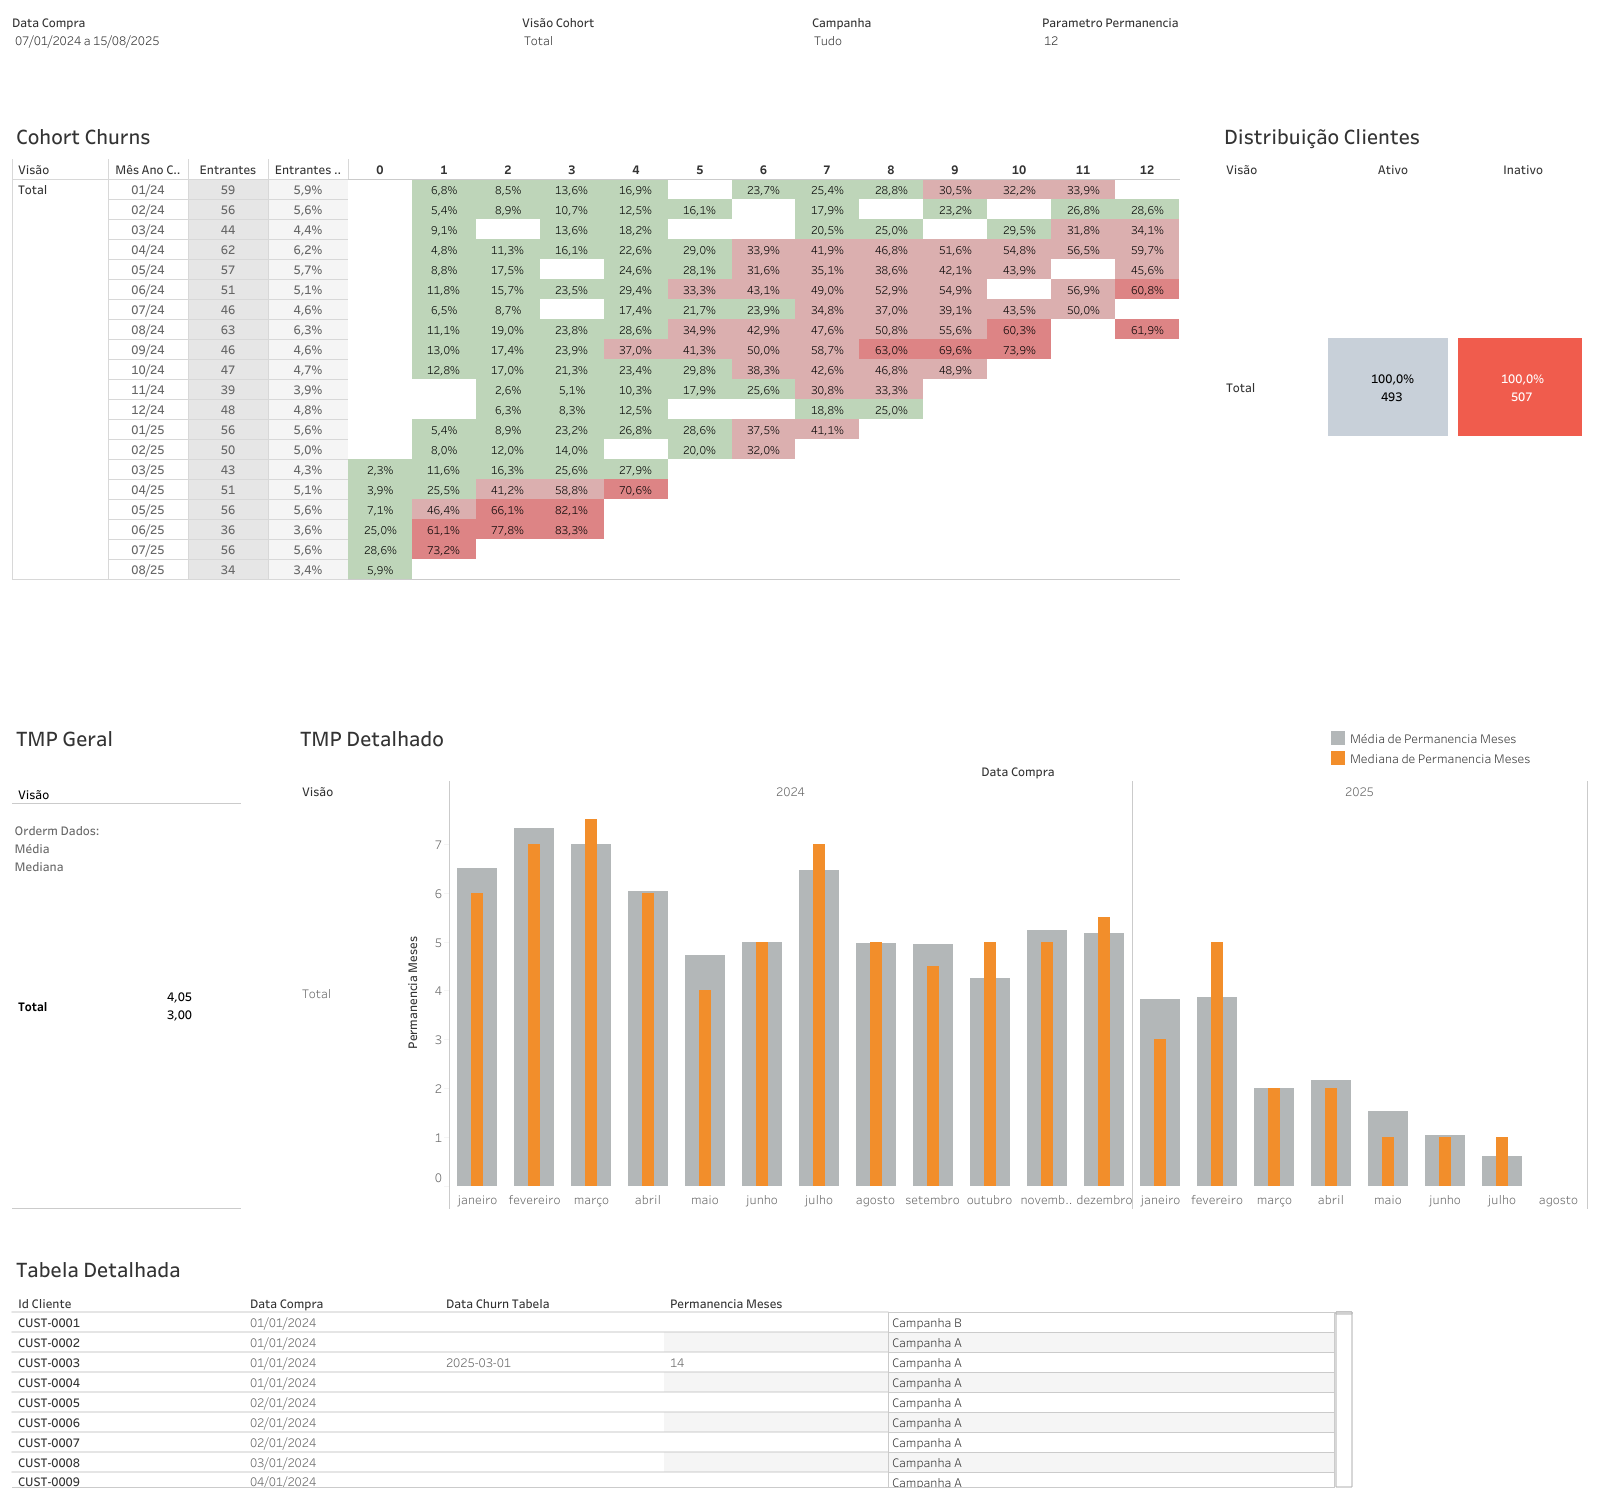

The dashboard page shown, as its layout file describes it:
{"tool":"tableau","page":{"name":"Painel","canvas":[1600,1500],"ordinal":0},"visuals":[{"type":"filter","title":"Cohort Churns","param":"[federated.1jg5xo313vnkno10xeusn05cs98l].[none:data_compra:qk]","box":[8,8,445,71.7]},{"type":"blank","box":[453,8,65,71.7]},{"type":"parameter","param":"[Parameters].[Parâmetro 1]","box":[518,8,202,71.7]},{"type":"blank","box":[720,8,88,71.7]},{"type":"filter","title":"Cohort Churns","param":"[federated.1jg5xo313vnkno10xeusn05cs98l].[none:campanha:nk]","box":[808,8,168,71.7]},{"type":"blank","box":[976,8,62,71.7]},{"type":"parameter","param":"[Parameters].[Parâmetro 2]","box":[1038,8,516,71.7]},{"type":"blank","box":[1554,8,38,71.7]},{"type":"blank","box":[8,79.7,1584,32.3]},{"type":"worksheet","title":"Cohort Churns","mark":"Square","rows":["Calculation_1052716462848020481","mês_ano_compra","Calculation_558164928986787842","Calculation_558164928999727113"],"cols":["Calculation_602919450343936000"],"box":[8,112,1176,554.3]},{"type":"blank","box":[1184,112,32,554.3]},{"type":"worksheet","title":"Distribuição Clientes","mark":"Bar","rows":["Calculation_1052716462848020481"],"cols":["ativo"],"box":[1216,112,376,487.2]},{"type":"blank","box":[1216,599.2,376,67.1]},{"type":"blank","box":[8,666.3,1584,47.7]},{"type":"worksheet","title":"TMP Geral","mark":"Automatic","rows":["Calculation_1052716462848020481"],"box":[8,714,237,499]},{"type":"blank","box":[245,714,47,499]},{"type":"worksheet","title":"TMP Detalhado","mark":"Bar","rows":["Calculation_1052716462848020481","permanencia_meses","permanencia_meses"],"cols":["data_compra","data_compra"],"box":[292,714,1300,499]},{"type":"legend","title":"TMP Detalhado","param":"[federated.1jg5xo313vnkno10xeusn05cs98l].[:Measure Names]","box":[1328,728,253,46]},{"type":"text","box":[12,810,153,75]},{"type":"blank","box":[8,1213,1584,32]},{"type":"worksheet","title":"Tabela Detalhada","mark":"Automatic","rows":["id_cliente","data_compra","Calculation_602919450346696705","permanencia_meses"],"box":[8,1245,1349,247]},{"type":"blank","box":[1357,1245,235,247]}]}

Visuals, with their boxes in screenshot pixels (x1, y1, x2, y2), scaled from the page's 1600x1500 canvas onto the 1599x1499 screenshot:
"Cohort Churns" filter: {"left": 8, "top": 8, "right": 453, "bottom": 80}
blank: {"left": 453, "top": 8, "right": 518, "bottom": 80}
parameter: {"left": 518, "top": 8, "right": 720, "bottom": 80}
blank: {"left": 720, "top": 8, "right": 807, "bottom": 80}
"Cohort Churns" filter: {"left": 807, "top": 8, "right": 975, "bottom": 80}
blank: {"left": 975, "top": 8, "right": 1037, "bottom": 80}
parameter: {"left": 1037, "top": 8, "right": 1553, "bottom": 80}
blank: {"left": 1553, "top": 8, "right": 1591, "bottom": 80}
blank: {"left": 8, "top": 80, "right": 1591, "bottom": 112}
"Cohort Churns" worksheet (Square marks): {"left": 8, "top": 112, "right": 1183, "bottom": 666}
blank: {"left": 1183, "top": 112, "right": 1215, "bottom": 666}
"Distribuição Clientes" worksheet (Bar marks): {"left": 1215, "top": 112, "right": 1591, "bottom": 599}
blank: {"left": 1215, "top": 599, "right": 1591, "bottom": 666}
blank: {"left": 8, "top": 666, "right": 1591, "bottom": 714}
"TMP Geral" worksheet: {"left": 8, "top": 714, "right": 245, "bottom": 1212}
blank: {"left": 245, "top": 714, "right": 292, "bottom": 1212}
"TMP Detalhado" worksheet (Bar marks): {"left": 292, "top": 714, "right": 1591, "bottom": 1212}
"TMP Detalhado" legend: {"left": 1327, "top": 728, "right": 1580, "bottom": 773}
text: {"left": 12, "top": 809, "right": 165, "bottom": 884}
blank: {"left": 8, "top": 1212, "right": 1591, "bottom": 1244}
"Tabela Detalhada" worksheet: {"left": 8, "top": 1244, "right": 1356, "bottom": 1491}
blank: {"left": 1356, "top": 1244, "right": 1591, "bottom": 1491}
